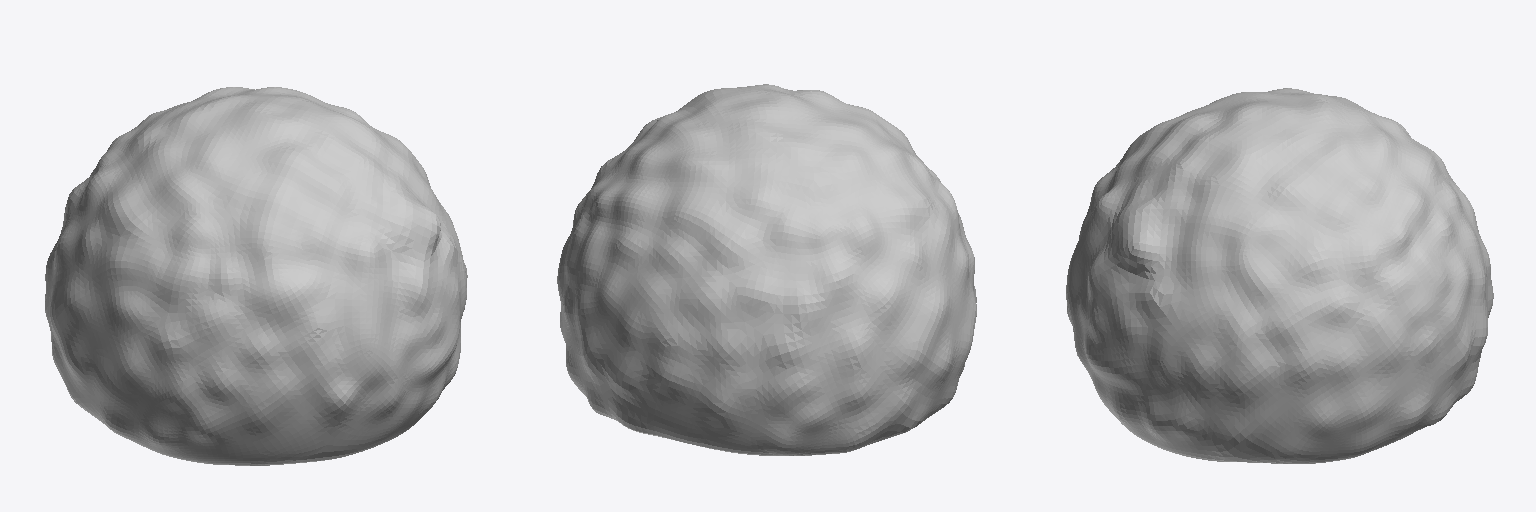
File: MarigoldObj.obj
3 renders of one model, left to right at view 1: azimuth 30°, elevation 25°; view 2: azimuth 150°, elevation 25°; view 3: azimuth 270°, elevation 25°, orthographic.
Parts seen in each view (by area): view 1: sphere-retopo 1_1; view 2: sphere-retopo 1_1; view 3: sphere-retopo 1_1.
Boxes of the visible parts, <box> form: sphere-retopo 1_1: <box>45,87,467,465</box>; sphere-retopo 1_1: <box>557,84,976,455</box>; sphere-retopo 1_1: <box>1066,88,1493,463</box>.
Size of the model in its own units: 212 by 165 by 215.